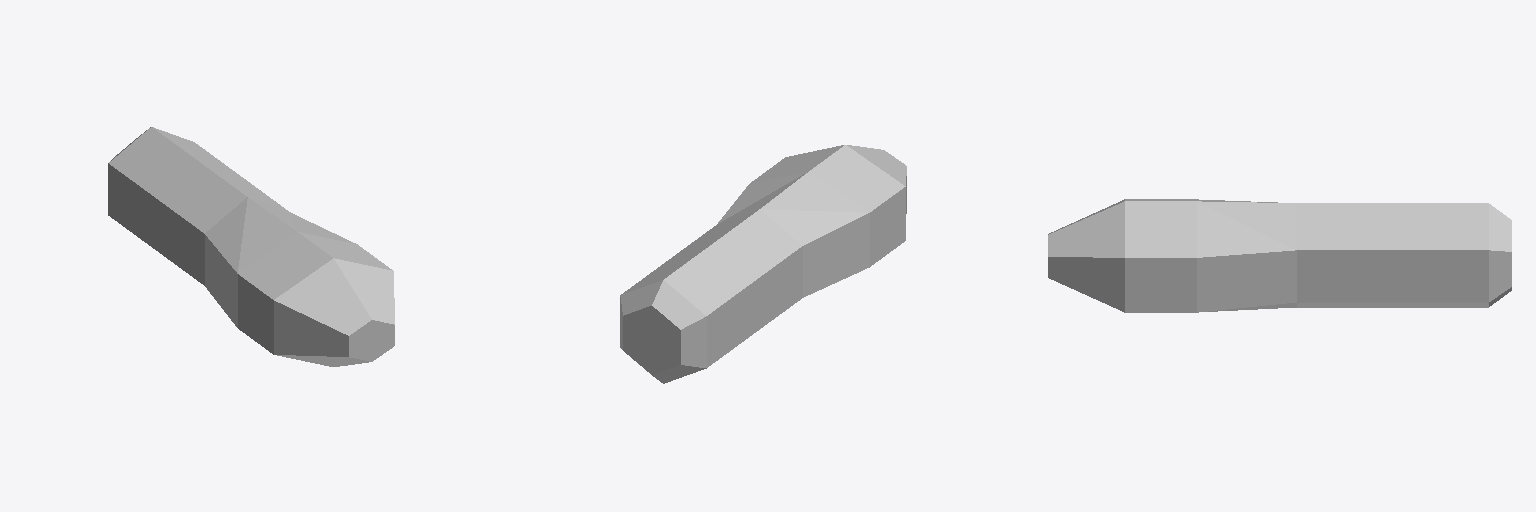
Rendered from SnakeHead.obj.
The picture shows the model from 3 angles: view 1: azimuth 30°, elevation 25°; view 2: azimuth 150°, elevation 25°; view 3: azimuth 270°, elevation 25°; orthographic projection.
Visible parts, largest first — view 1: Cylinder.003; view 2: Cylinder.003; view 3: Cylinder.003.
Part boxes in pixels (left/top/right/bottom): Cylinder.003: left=108, top=127, right=394, bottom=366; Cylinder.003: left=620, top=145, right=906, bottom=383; Cylinder.003: left=1048, top=199, right=1511, bottom=312.
Size of the model in its own units: 0.6804 by 0.5912 by 2.28.